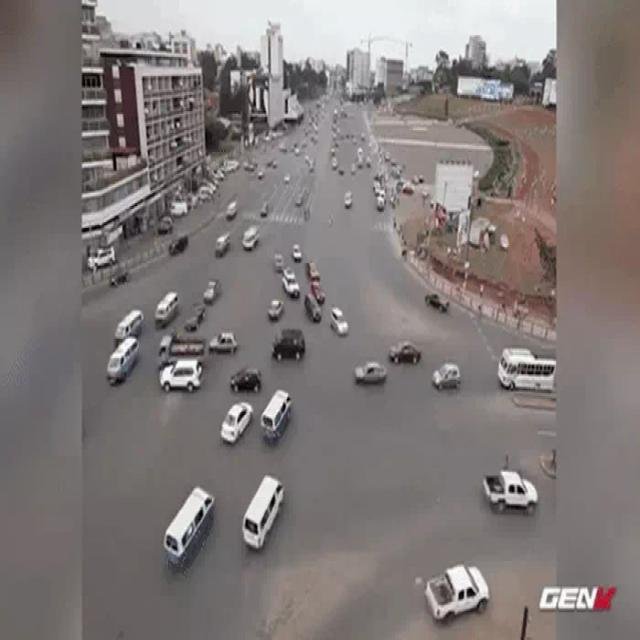normal: (134, 451, 301, 583), (351, 319, 551, 400), (204, 374, 303, 454), (459, 454, 551, 536), (411, 557, 509, 630), (89, 287, 153, 397)
